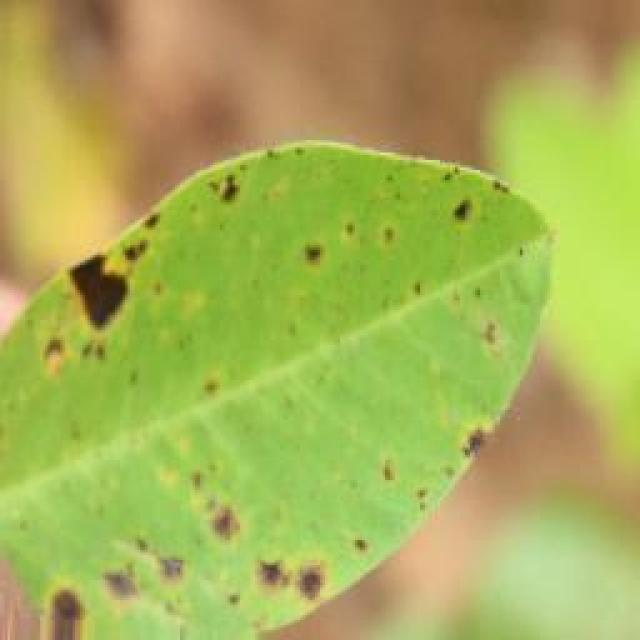Yellowish: (9, 112, 560, 640)
